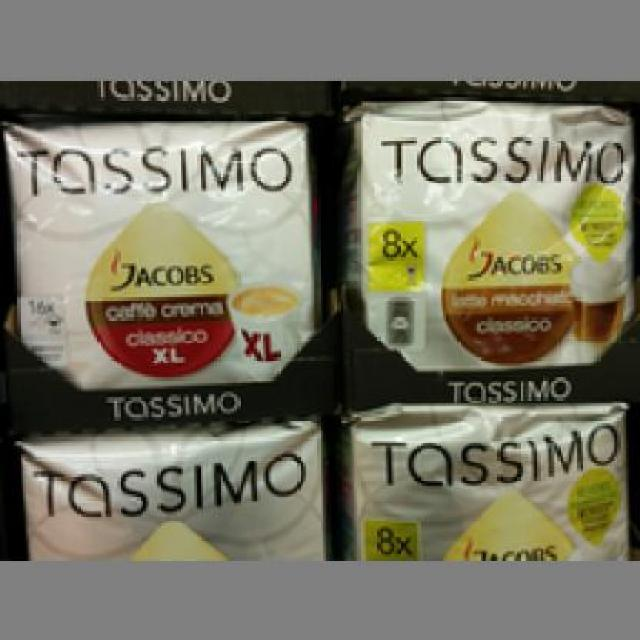Coffee: (0, 113, 312, 386), (340, 100, 634, 369), (326, 397, 631, 552), (8, 417, 326, 552)
